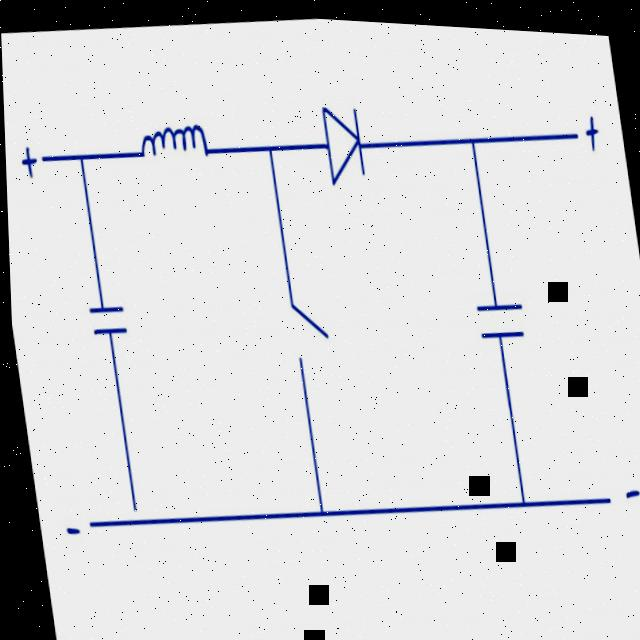capacitor: (459, 263, 529, 358), (77, 283, 136, 352)
diode: (300, 63, 375, 194)
inductor: (130, 96, 225, 195)
switch: (260, 247, 334, 394)
